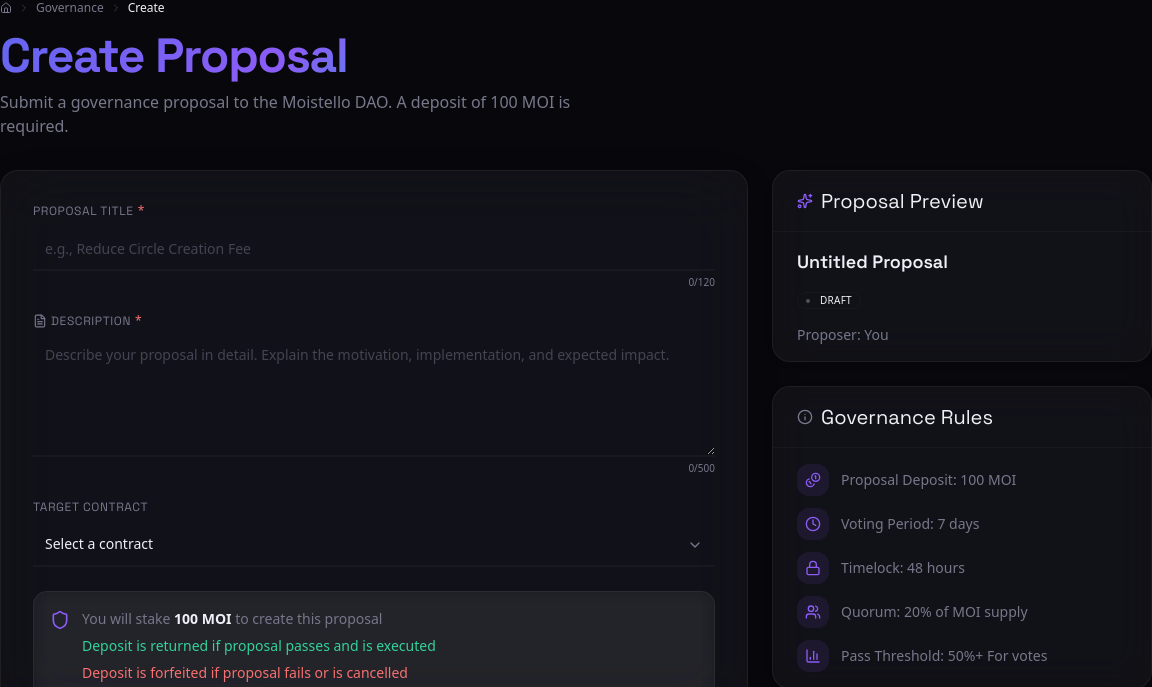
Proposal Create Page › method select appears after choosing a target contract
Select "Circle Factory · Deploy and manage savings circles" in the dropdown labelled "Target Contract". click: [374, 545]
box: [33,523,715,567]
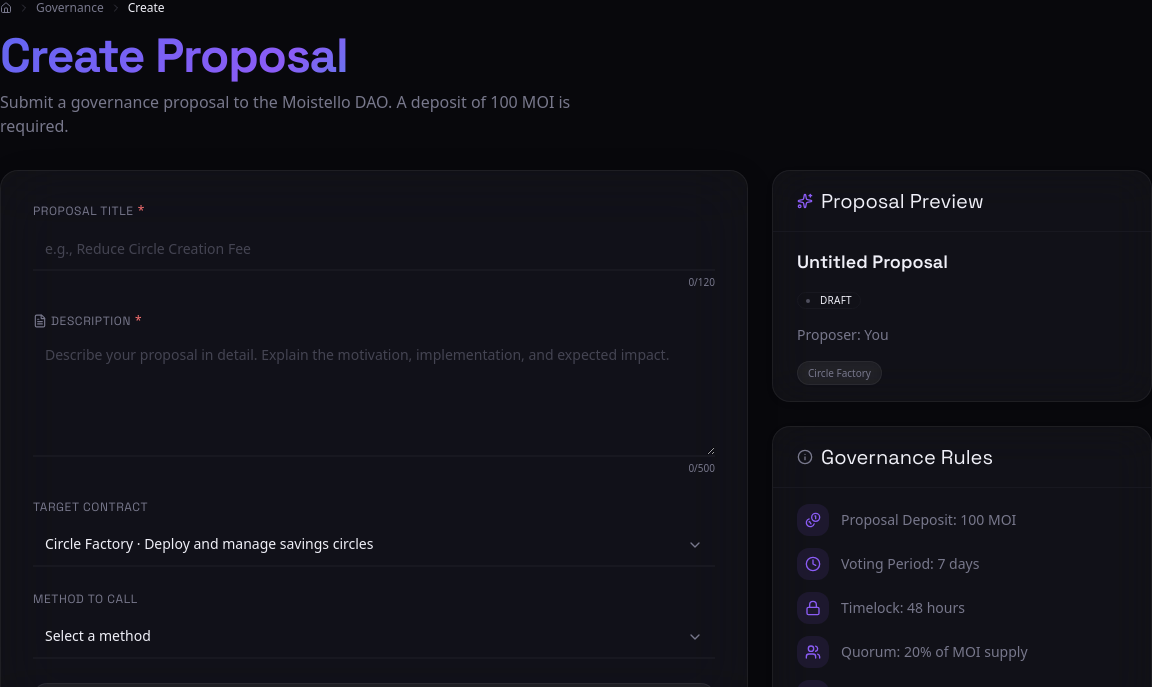
Result: the text "Method to Call" is shown at [33,591,138,607]
